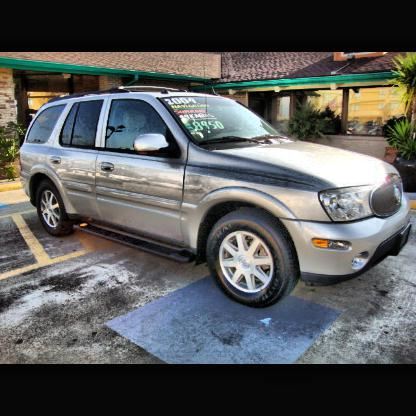Buick Rainier SUV 2007: (21, 86, 413, 312)
